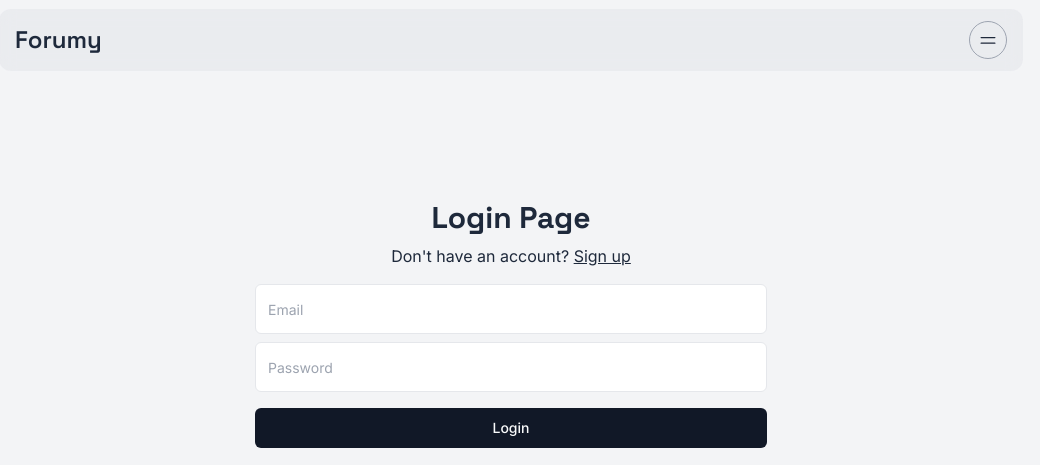
it: The Login Page Test › Before Login › should show the nav menu list
This screenshot has width=1040, height=465.
Step 1. Click the button with test id "app-nav-header-menu-btn" → [988, 40], box [969,21,1007,59]
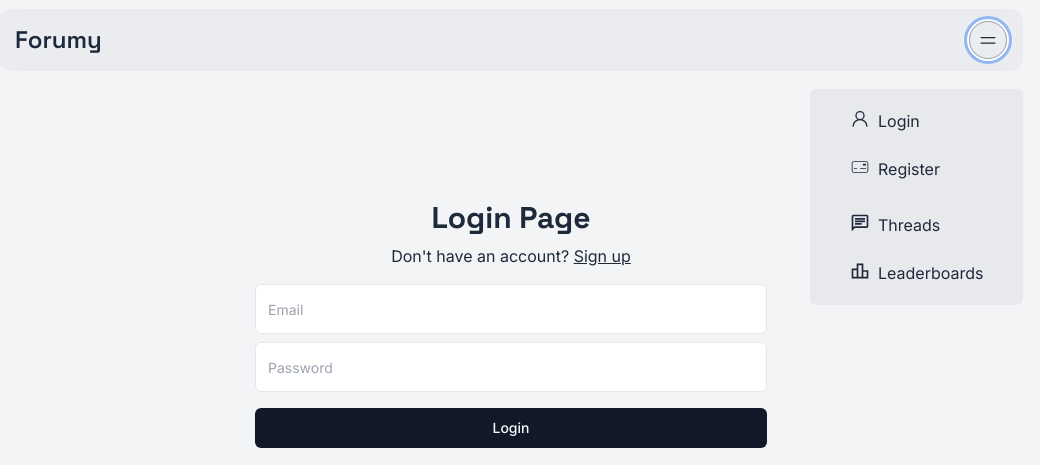
Result: the link "Login" is shown at [850,109,919,131]
Result: the link "Register" is shown at [850,157,940,179]
Result: the link "Threads" is shown at [850,213,940,235]
